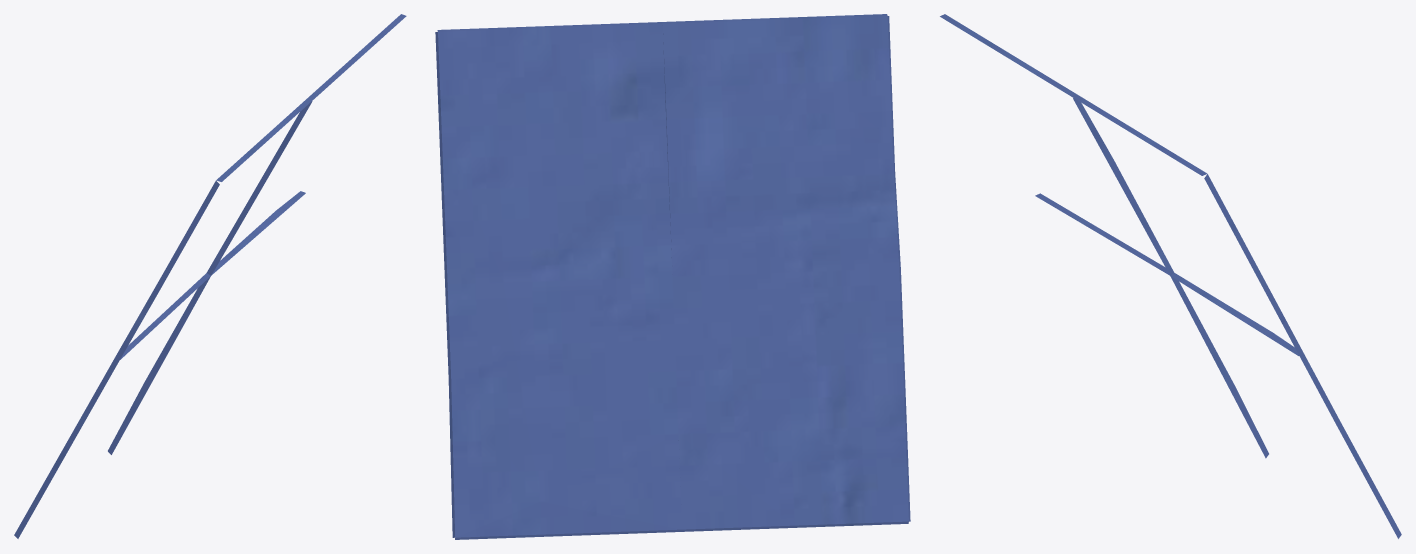
The picture shows the model from 3 angles, left to right: view 1: azimuth 30°, elevation 25°; view 2: azimuth 150°, elevation 25°; view 3: azimuth 270°, elevation 25°; orthographic projection. The views are drawn at different scales.
Bounding box in the file's own units: 78579 × 70395 × 70093.
1 material, 1 textured.
